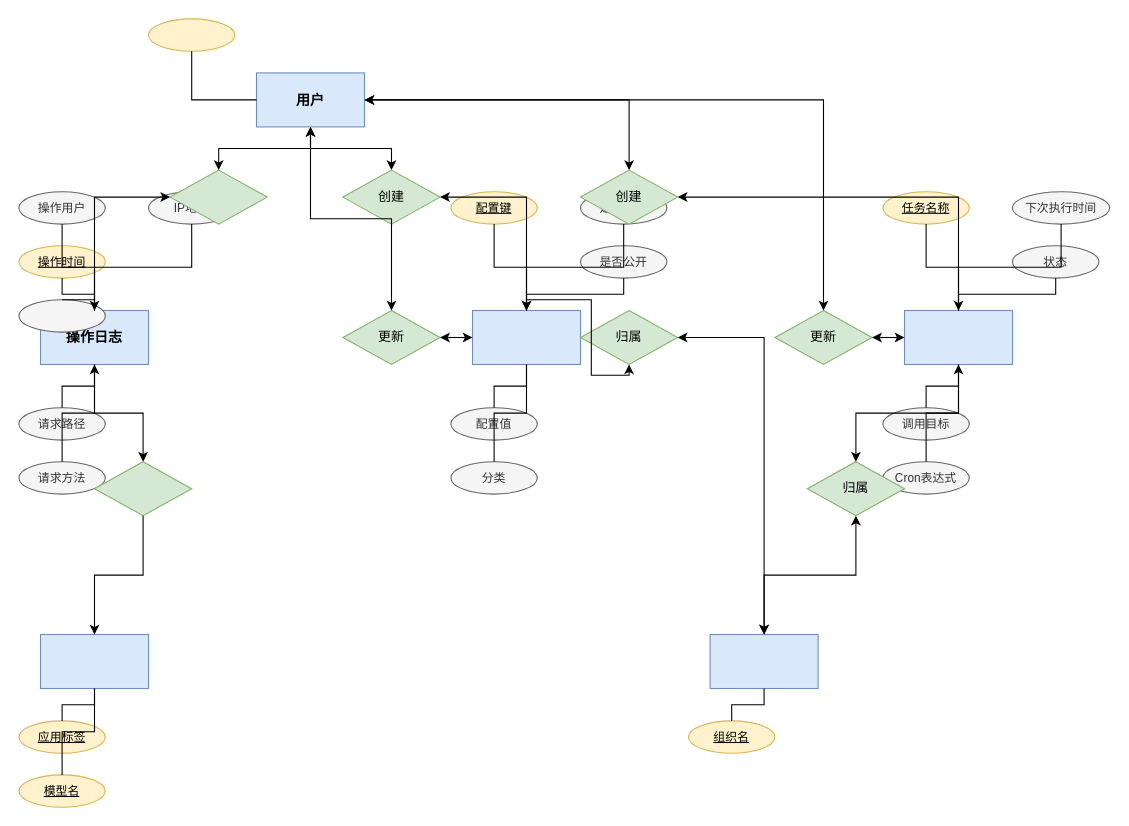
Some shapes in this 1129 by 826 pixel diagram are drawn without their labels. Each missing label, with the centre of its shape:
内容类型: the point at 93,660
定时任务: the point at 958,336
执行: the point at 218,196
操作: the point at 142,488
操作类型: the point at 61,315
用户名: the point at 191,34
系统配置: the point at 525,336
组织: the point at 763,660
